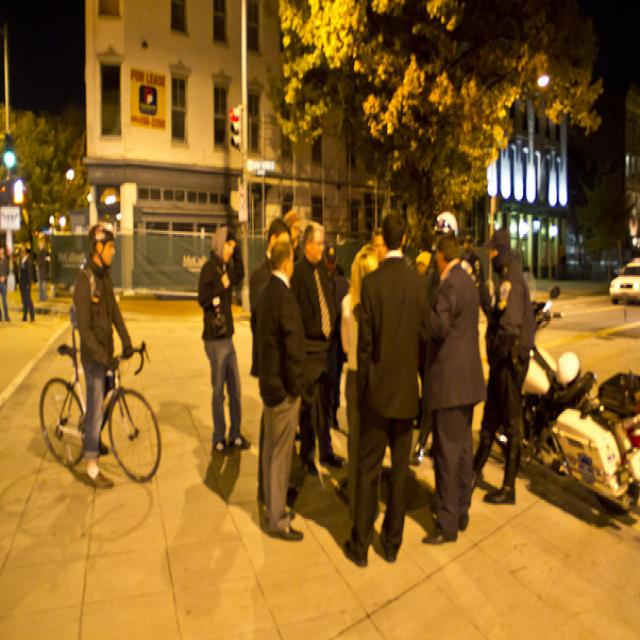Vehicle: (514, 283, 640, 517), (609, 254, 640, 304)
